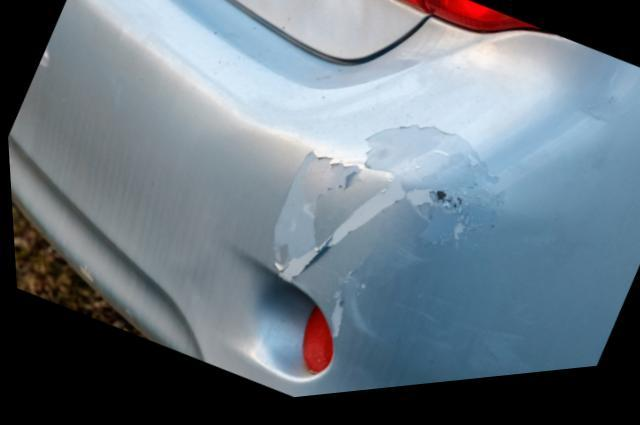scratch: (262, 131, 516, 351)
